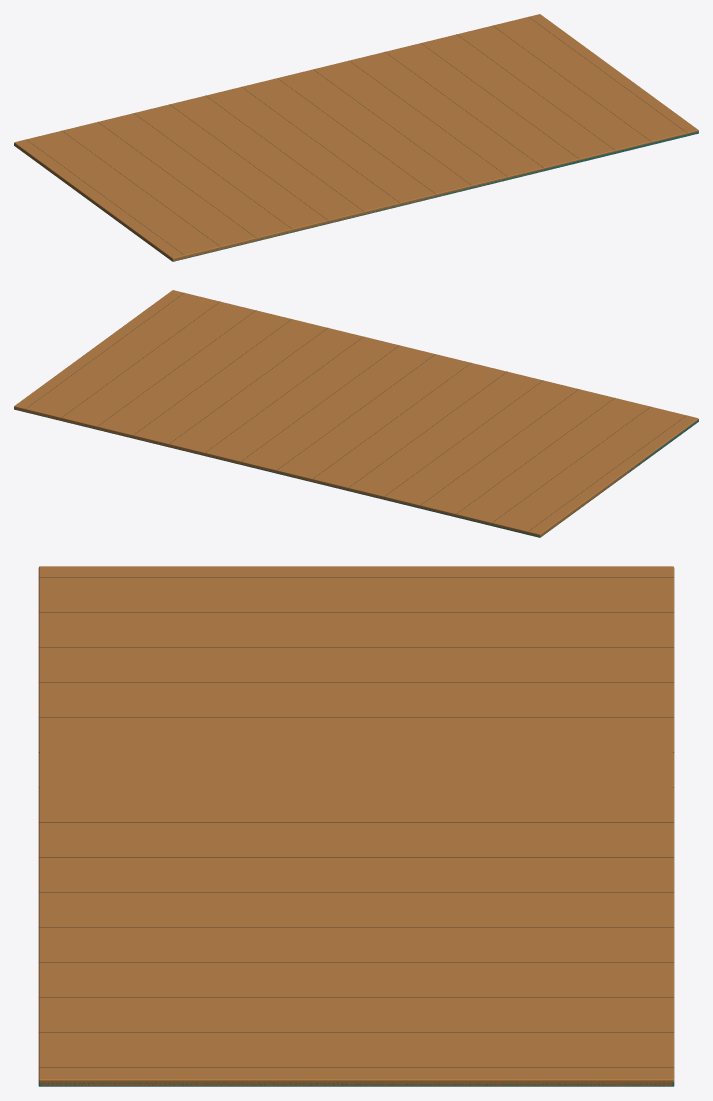
The model's file is cabinet-low-shelf-light.glb.
The picture shows the model from 3 angles, top to bottom: view 1: azimuth 30°, elevation 25°; view 2: azimuth 150°, elevation 25°; view 3: azimuth 270°, elevation 25°; orthographic projection. The views are drawn at different scales.
Parts seen in each view (by area): view 1: wood, dark, teal; view 2: wood, dark, teal; view 3: wood, dark, teal.
Boxes of the visible parts, <box> form: wood: <box>14,14,698,261</box>; dark: <box>26,17,686,254</box>; teal: <box>14,131,698,261</box>; wood: <box>14,290,698,536</box>; dark: <box>26,293,686,530</box>; teal: <box>14,407,698,537</box>; wood: <box>38,566,674,1085</box>; dark: <box>39,577,673,1067</box>; teal: <box>38,1082,674,1086</box>.
Size of the model in its own units: 44 by 0.3025 by 23.
